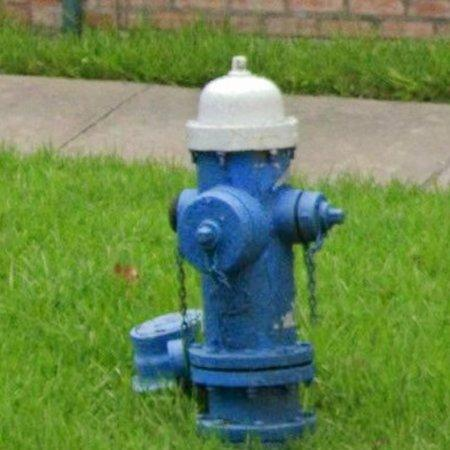a fire hydrant: (130, 56, 345, 443)
